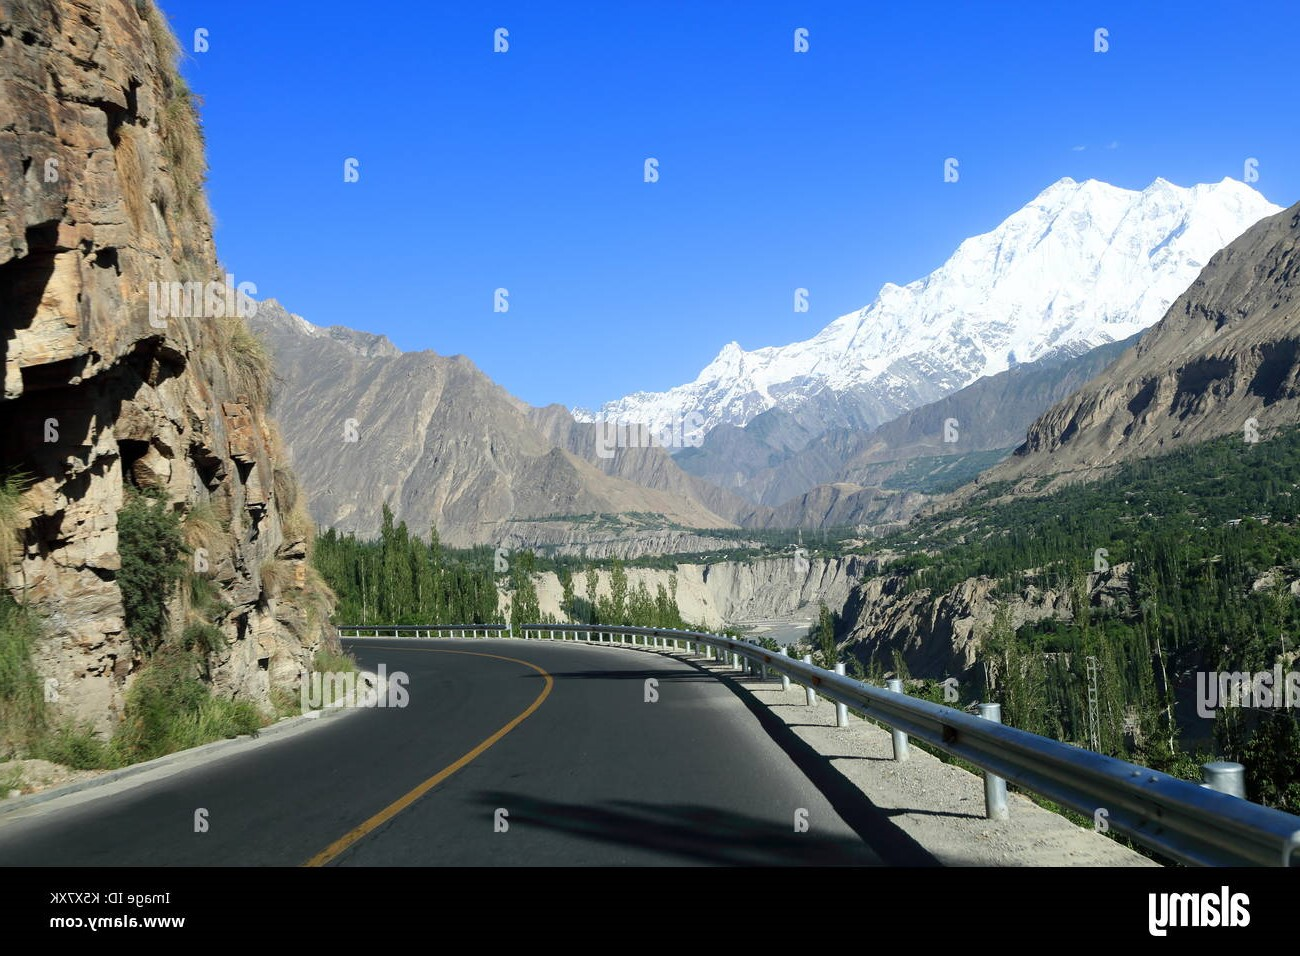leftTrun: (340, 579, 729, 847)
